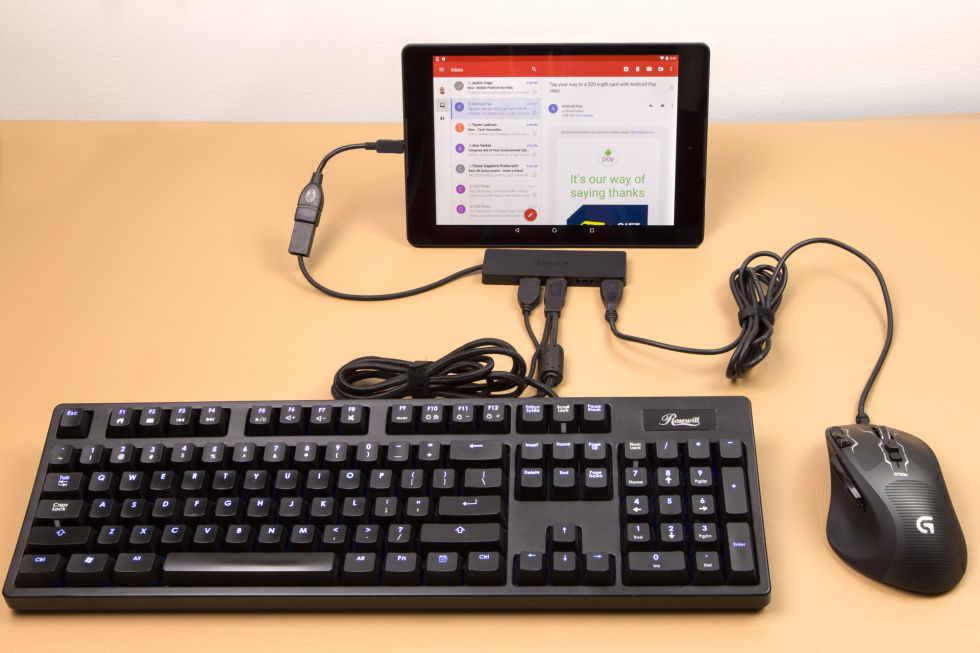keyboard: (11, 372, 782, 625)
monitor: (393, 37, 724, 254)
mouse: (810, 405, 976, 613)
